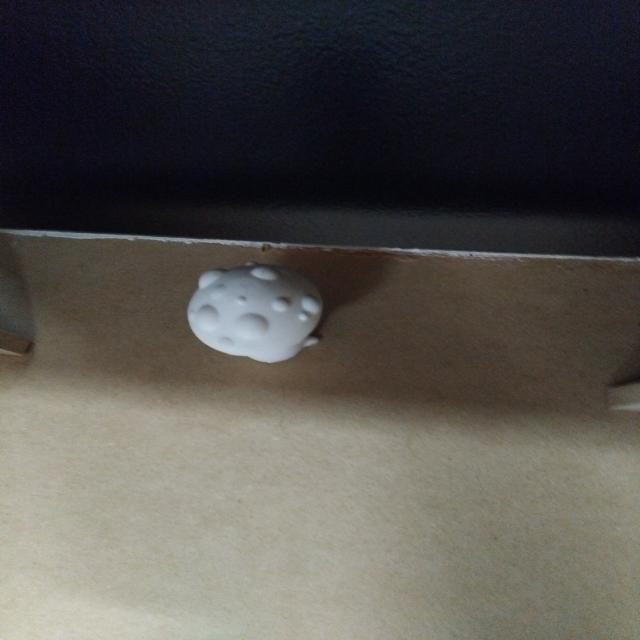Hongo: (179, 262, 331, 368)
